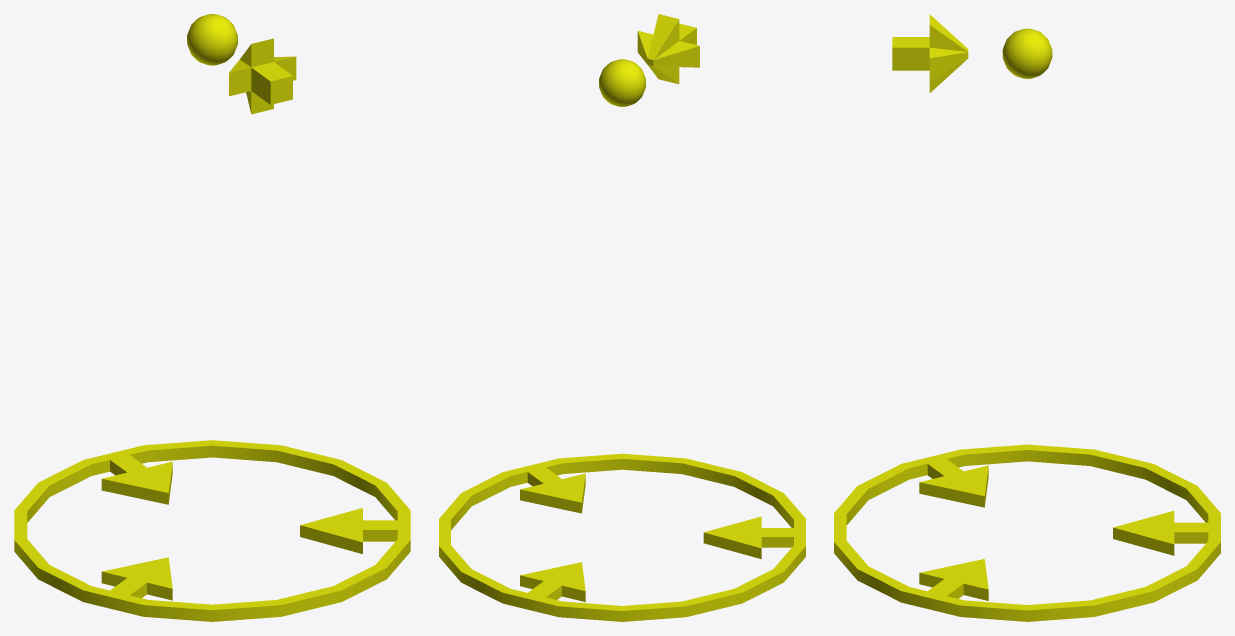
The model's file is yuansu02.dbb23db.glb.
The picture shows the model from 3 angles, left to right: view 1: azimuth 30°, elevation 25°; view 2: azimuth 150°, elevation 25°; view 3: azimuth 270°, elevation 25°; orthographic projection. The views are drawn at different scales.
Visible parts, largest first — view 1: yuansu02; view 2: yuansu02; view 3: yuansu02.
Boxes of the visible parts, bbox=[...] form: yuansu02: bbox=[14, 14, 410, 621]; yuansu02: bbox=[439, 14, 805, 621]; yuansu02: bbox=[834, 14, 1220, 621].
Bounding box in the file's own units: 1.55 × 2.26 × 1.53.
